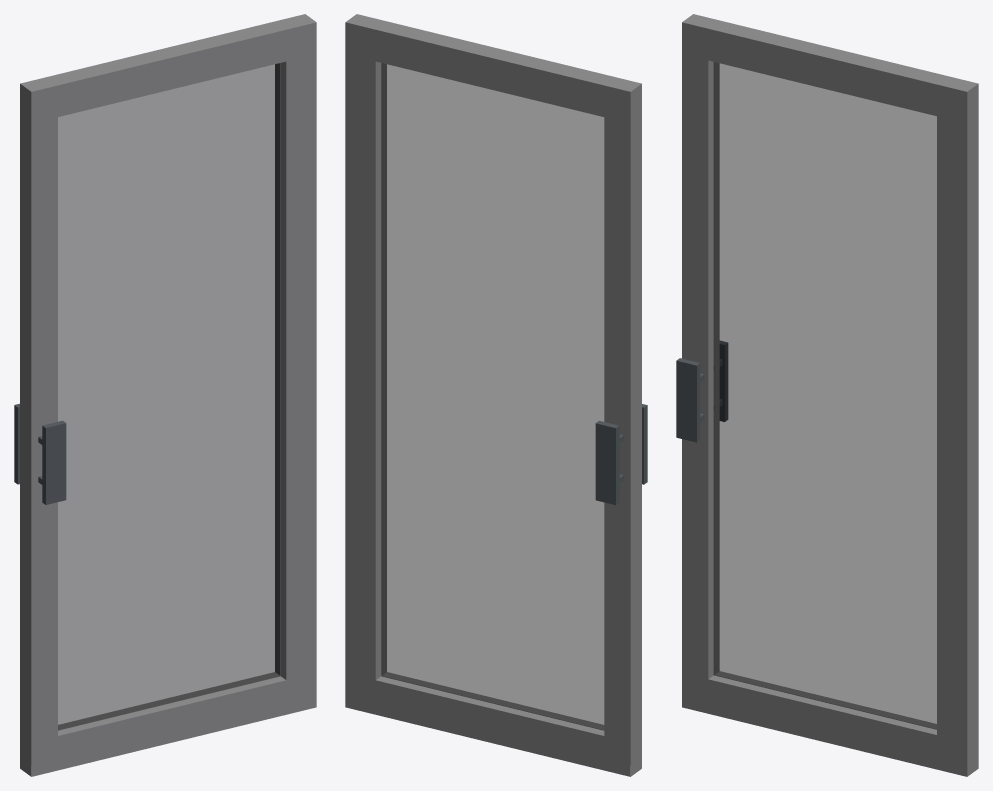
File: DoorsV1.glb
3 views of the same model, side by side, from view 1: azimuth 30°, elevation 25°; view 2: azimuth 150°, elevation 25°; view 3: azimuth 330°, elevation 25° (orthographic).
Parts seen in each view (by area): view 1: Door.004, KNOB.027; view 2: Door.004, KNOB.002; view 3: Door.004, KNOB.027, KNOB.002.
Part boxes in pixels (x1,y1,x2,y2): Door.004: (20,14,316,776); KNOB.027: (38,420,66,504); Door.004: (345,14,641,776); KNOB.002: (595,420,623,505); Door.004: (682,14,978,776); KNOB.027: (676,358,704,442); KNOB.002: (713,340,728,421).
Bounding box in the file's own units: 0.9325 × 2.14 × 0.1787.
3 materials, 1 textured.
